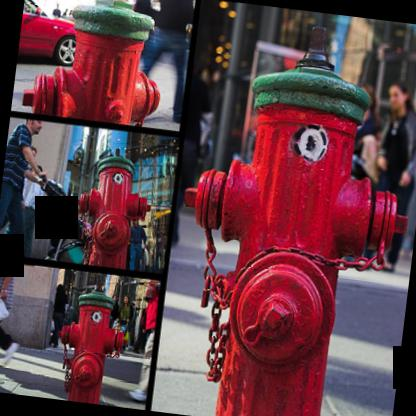handbag: (0, 298, 10, 321), (140, 246, 149, 266)
